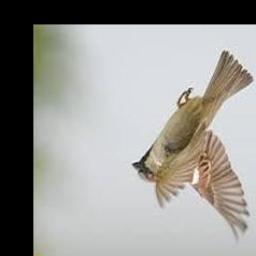Sparrow: (131, 51, 253, 242)
